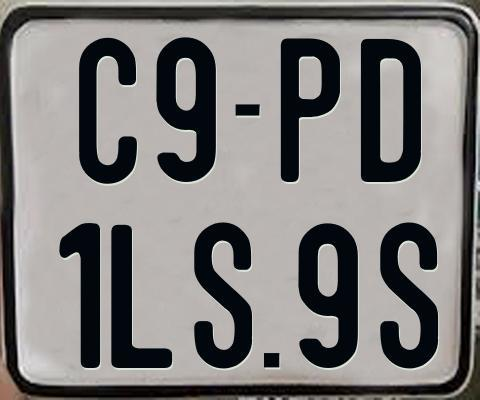1: (59, 221, 101, 366)
9: (296, 220, 362, 367), (156, 34, 218, 180)
C: (76, 36, 138, 184)
D: (358, 39, 423, 183)
L: (111, 224, 176, 372)
P: (280, 36, 343, 181)
S: (380, 222, 443, 373), (193, 222, 251, 374)
